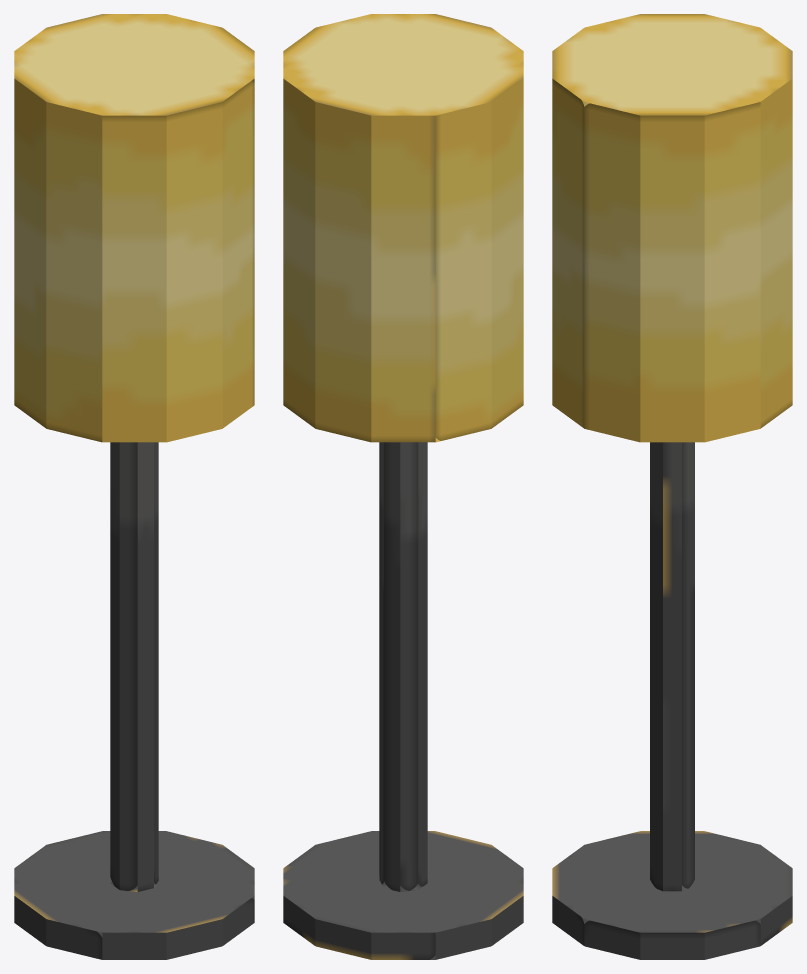
File: talllamp.fbx
3 views of the same model, side by side, from view 1: azimuth 30°, elevation 25°; view 2: azimuth 150°, elevation 25°; view 3: azimuth 270°, elevation 25° (orthographic).
Visible parts, largest first — view 1: cylinder_2, cylinder, cylinder_1; view 2: cylinder_2, cylinder, cylinder_1; view 3: cylinder_2, cylinder, cylinder_1.
Part boxes in pixels (box(x1,y1,x2,y2)): cylinder_2: box(14, 14, 254, 442); cylinder: box(14, 831, 254, 959); cylinder_1: box(110, 442, 158, 891); cylinder_2: box(283, 14, 523, 442); cylinder: box(283, 831, 523, 959); cylinder_1: box(379, 442, 427, 891); cylinder_2: box(552, 14, 792, 442); cylinder: box(552, 831, 792, 959); cylinder_1: box(650, 442, 694, 891).
Bounding box in the file's own units: 100 × 388 × 100.
1 material, 1 textured.
